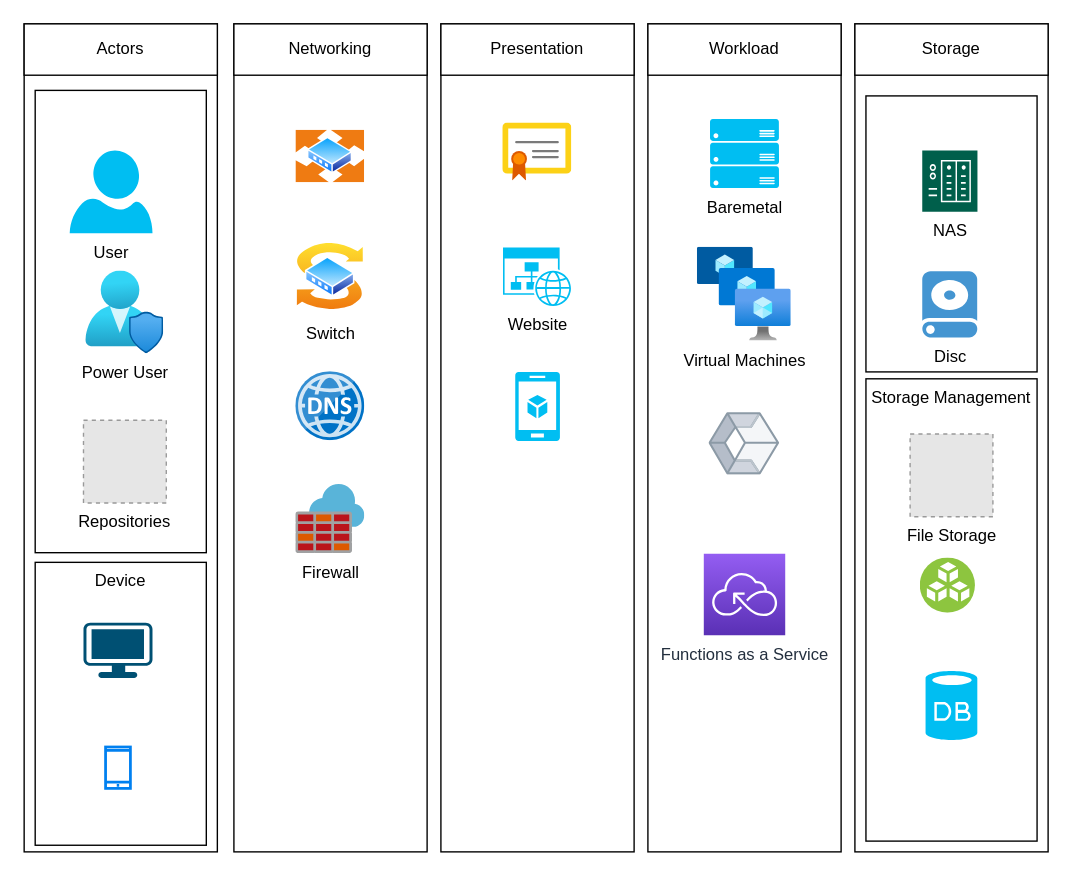
This 1072x876 diagram has some shape labels left out. Grey dashed boxes stand in for pictures. The shapes that lost their labels are listed below. From the top down, each one's box as (x1, y1, x2, y2) in pixels, then its label:
(295, 130, 364, 182): Router
(502, 123, 571, 181): Certificates
(865, 95, 1037, 372): Physical Devices
(34, 89, 206, 553): Clients
(514, 371, 559, 440): Mobile Application
(708, 412, 779, 475): Stateful Containers
(920, 558, 975, 613): Object Storage
(83, 622, 152, 677): Workstation
(925, 670, 977, 739): Database
(103, 745, 131, 789): Mobile
